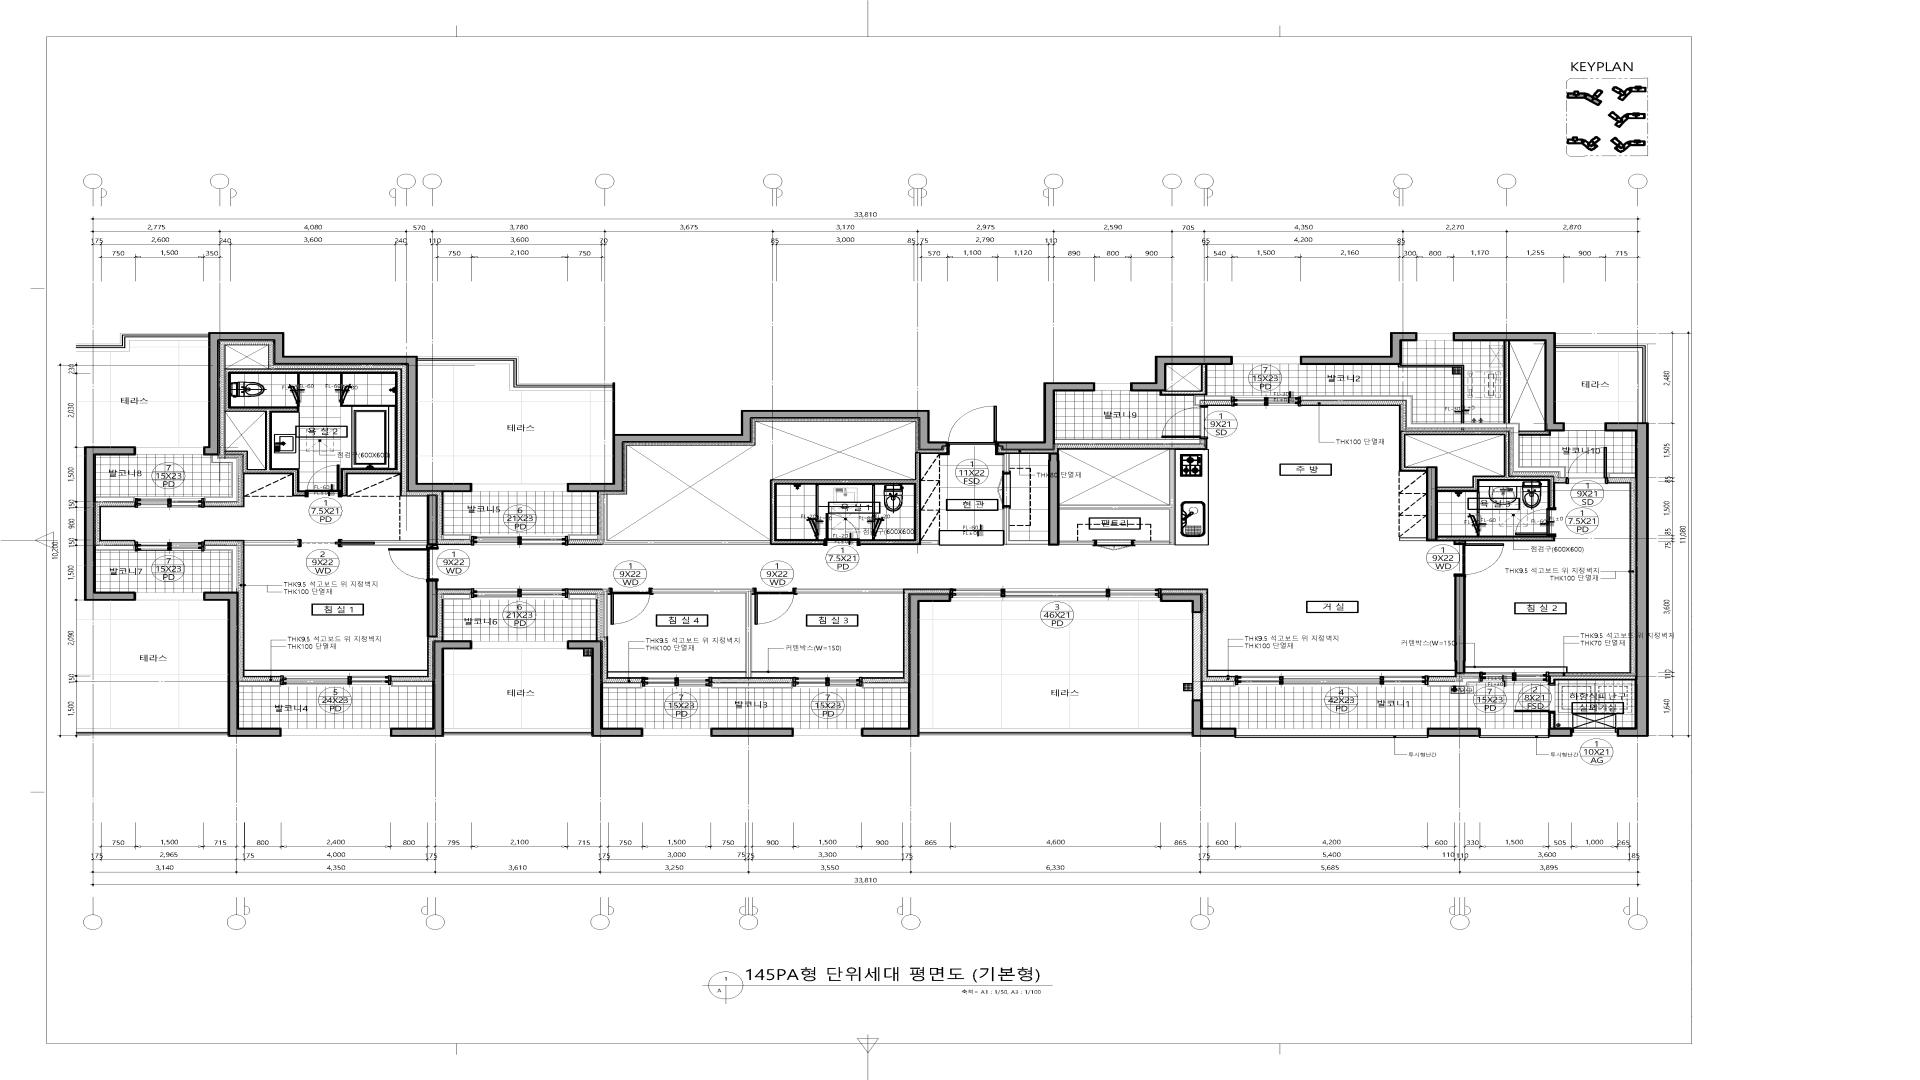door: (948, 406, 998, 455), (388, 546, 439, 582), (1453, 542, 1505, 576), (608, 588, 651, 625), (752, 588, 795, 625), (1162, 406, 1208, 439), (1567, 447, 1607, 484), (823, 513, 860, 546), (1514, 684, 1556, 712), (1515, 508, 1556, 535), (306, 464, 340, 497), (1095, 539, 1134, 551), (299, 539, 340, 547)
wall: (203, 332, 472, 492), (1300, 342, 1565, 479), (567, 410, 948, 492), (603, 452, 939, 545), (224, 368, 402, 497), (418, 357, 616, 434), (1605, 422, 1648, 737), (861, 593, 951, 737), (1399, 431, 1556, 508), (203, 592, 282, 737), (1453, 332, 1565, 431), (1060, 450, 1175, 545), (651, 589, 752, 678), (84, 446, 136, 601), (390, 640, 472, 737), (567, 641, 644, 737), (1556, 344, 1647, 422), (998, 382, 1096, 451), (1300, 332, 1418, 365), (1192, 613, 1236, 699), (1130, 356, 1233, 392), (1159, 365, 1232, 406), (75, 334, 208, 352), (919, 729, 1192, 736), (1004, 508, 1048, 545), (1192, 700, 1237, 737), (204, 545, 239, 592), (204, 456, 239, 502), (1455, 576, 1466, 674), (1048, 454, 1060, 546), (76, 729, 227, 736), (444, 729, 591, 736), (1160, 593, 1203, 613), (1427, 467, 1437, 542), (1549, 675, 1635, 684), (1437, 535, 1555, 542), (1055, 439, 1201, 444), (711, 728, 794, 737), (427, 582, 438, 637), (427, 495, 438, 545), (1427, 728, 1481, 737), (1428, 678, 1480, 687), (342, 541, 427, 546), (795, 589, 903, 593), (712, 683, 793, 688), (244, 541, 299, 546), (96, 545, 135, 551), (603, 589, 608, 637), (862, 683, 909, 688), (1548, 728, 1573, 737), (239, 682, 281, 687), (392, 682, 433, 687), (603, 683, 642, 688), (96, 497, 135, 502), (568, 534, 599, 539), (442, 534, 471, 539), (1607, 473, 1635, 479), (1060, 541, 1095, 545), (1548, 712, 1556, 728), (1004, 454, 1010, 472), (442, 595, 471, 599), (568, 595, 597, 599), (1399, 538, 1425, 541)
window: (951, 588, 1159, 601), (1236, 675, 1428, 686), (1237, 729, 1427, 738), (281, 675, 392, 686), (471, 588, 568, 599), (471, 535, 568, 546), (1480, 671, 1549, 683), (472, 484, 567, 492), (472, 641, 567, 649), (135, 497, 204, 508), (642, 676, 712, 687), (793, 676, 862, 687), (1232, 396, 1300, 406), (282, 729, 390, 736), (135, 542, 204, 551), (1481, 729, 1548, 738), (136, 592, 203, 600), (136, 447, 203, 455), (644, 728, 709, 736), (794, 729, 861, 736), (1233, 357, 1300, 364), (1573, 728, 1617, 736), (1565, 423, 1605, 430), (1096, 384, 1130, 390), (1418, 334, 1452, 340)
